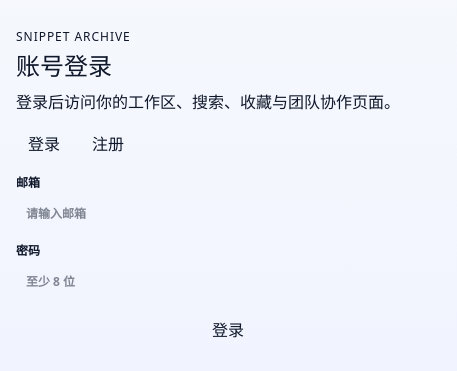
LoginPage › shows validation feedback when login form is invalid
Type "owner@example.com" into the field with test id "login-email" at (228,214), box [16,196,440,232]
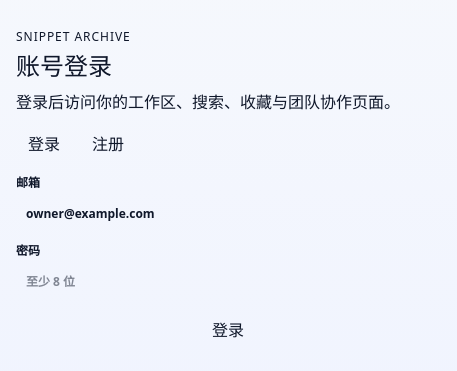
Type "123" into the password field with test id "login-password" at (228,282), box [16,264,440,300]
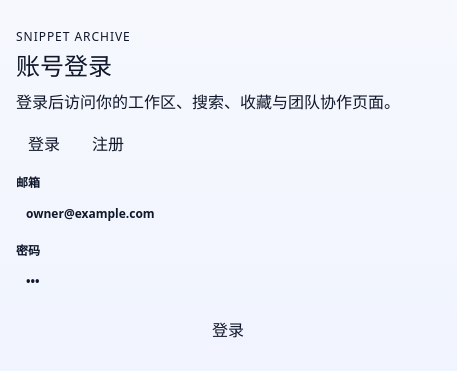
Click the button with test id "login-submit" at (228,330), box [16,310,440,350]
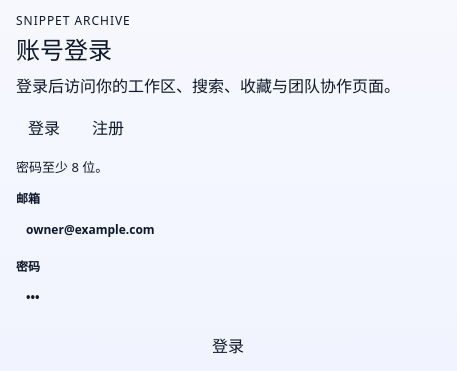
Check: the text with test id "login-error" shows "密码至少 8 位", box [16,158,108,176]
